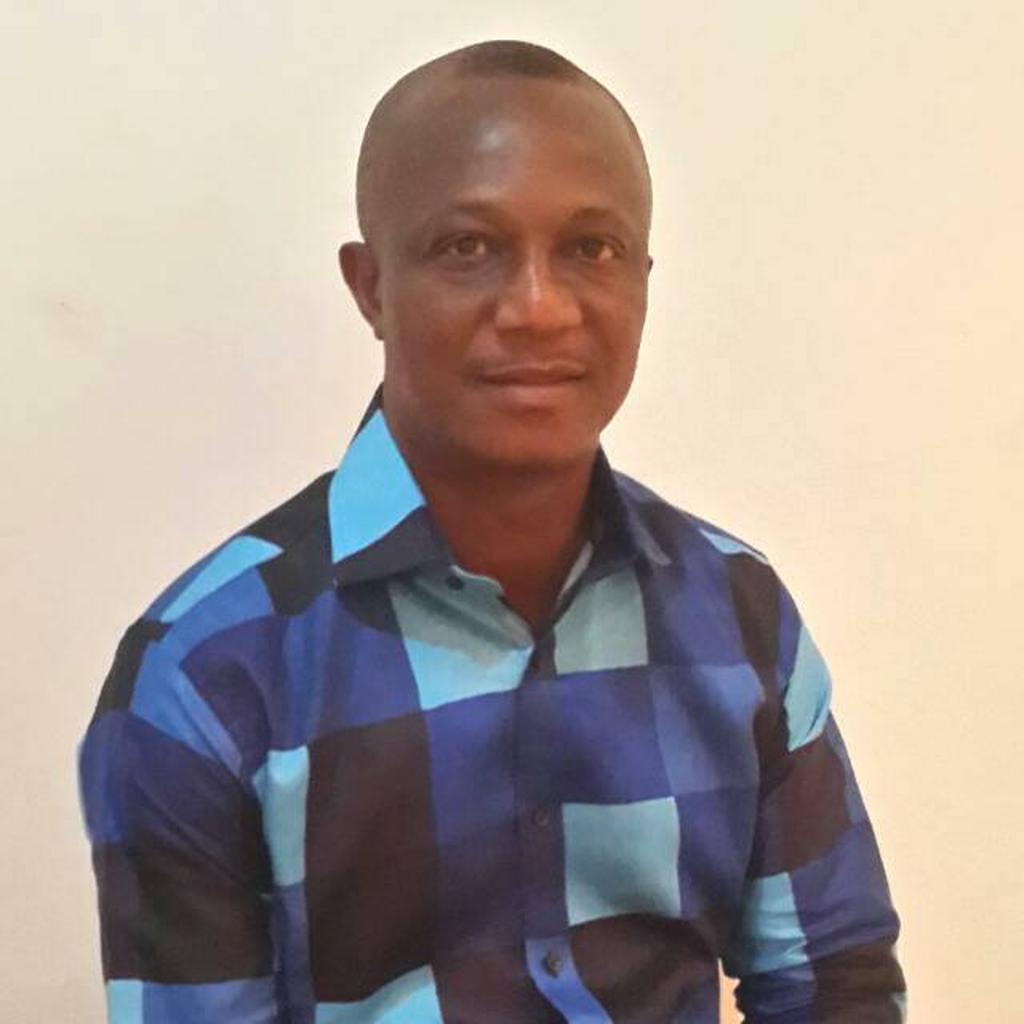face: (390, 90, 650, 464)
